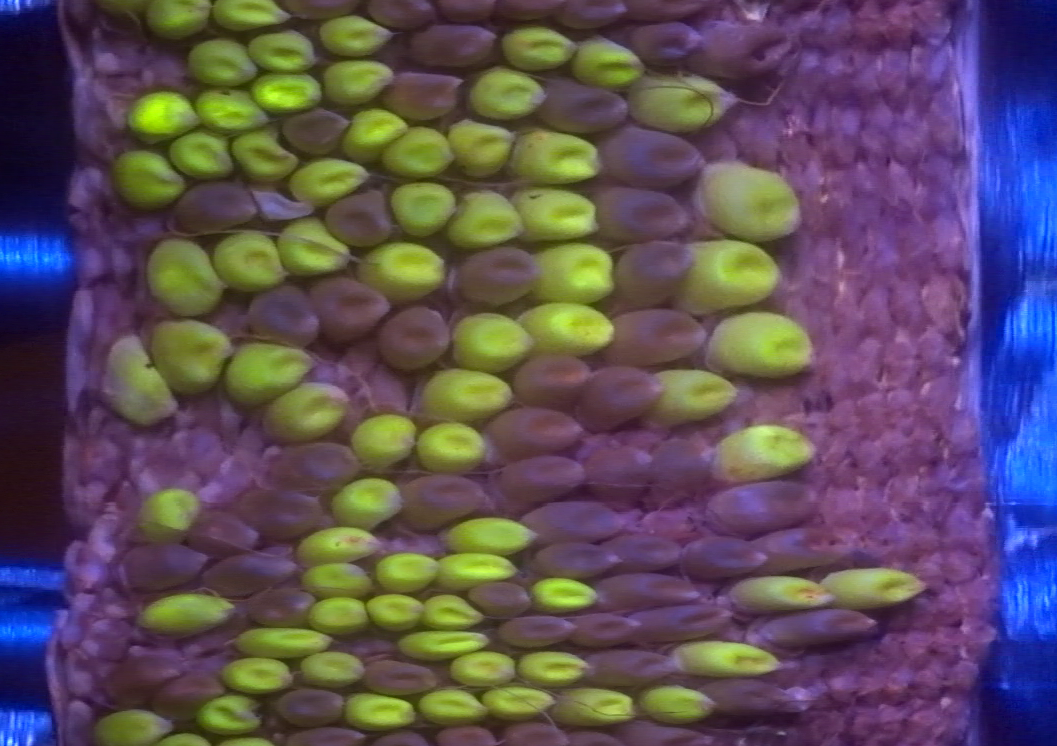fluorescent: (699, 163, 798, 239), (691, 243, 784, 304), (146, 239, 222, 313), (716, 426, 817, 481), (151, 319, 225, 394), (707, 321, 806, 375), (109, 336, 171, 420), (355, 243, 446, 300), (229, 336, 311, 398), (628, 77, 734, 123), (822, 565, 924, 611), (528, 247, 614, 301), (516, 304, 611, 351), (426, 370, 513, 421), (266, 384, 345, 440), (276, 218, 350, 276), (456, 310, 528, 369), (512, 132, 600, 180), (514, 188, 596, 239), (654, 368, 734, 419), (212, 234, 283, 291), (734, 572, 827, 613), (677, 640, 779, 675), (449, 118, 508, 178), (341, 104, 403, 161), (455, 187, 518, 243), (576, 31, 639, 86), (113, 154, 180, 204), (469, 71, 536, 120), (137, 487, 199, 539), (332, 479, 399, 527), (143, 596, 227, 634), (418, 423, 484, 471), (284, 164, 363, 204), (385, 128, 452, 175), (389, 183, 453, 232), (350, 418, 413, 465), (235, 133, 294, 183), (172, 133, 231, 181), (447, 516, 535, 548), (437, 550, 516, 585), (294, 530, 375, 564), (186, 40, 250, 83), (503, 28, 573, 67), (520, 648, 589, 686), (127, 96, 192, 136), (219, 657, 293, 692), (196, 90, 263, 127), (319, 63, 389, 98), (248, 33, 314, 70), (142, 1, 210, 36), (645, 685, 714, 719), (237, 629, 329, 654), (557, 691, 636, 720), (254, 78, 320, 111), (325, 17, 389, 51), (306, 560, 370, 594), (537, 572, 596, 608), (454, 652, 516, 686), (367, 595, 424, 630), (482, 689, 550, 718), (424, 688, 482, 722), (94, 715, 164, 743), (421, 596, 483, 626), (301, 657, 369, 684), (306, 600, 367, 630), (399, 635, 495, 654), (380, 554, 431, 589), (346, 700, 417, 724), (214, 2, 288, 25), (201, 701, 259, 729)
nonfluorescent: (699, 476, 819, 537), (162, 177, 262, 243), (577, 363, 668, 434), (606, 124, 705, 186), (612, 303, 711, 363), (702, 18, 792, 83), (539, 76, 633, 138), (593, 184, 693, 242), (313, 276, 393, 348), (459, 243, 545, 307), (242, 279, 317, 350), (762, 603, 879, 648), (615, 236, 692, 304), (97, 639, 178, 703), (519, 498, 631, 543), (381, 296, 449, 369), (395, 471, 486, 523), (588, 443, 659, 509), (493, 404, 583, 456), (492, 448, 585, 498), (754, 527, 855, 572), (404, 22, 499, 69), (328, 190, 399, 252), (517, 350, 589, 410), (634, 600, 736, 642), (115, 538, 206, 585), (244, 483, 324, 536), (386, 72, 472, 121), (679, 534, 769, 578), (274, 438, 357, 485), (592, 570, 704, 604), (529, 539, 624, 579), (205, 548, 297, 589), (282, 104, 356, 154), (704, 676, 796, 716), (356, 650, 438, 694), (628, 20, 702, 68), (465, 572, 533, 623), (650, 436, 705, 499), (582, 646, 672, 684), (604, 531, 687, 572), (494, 611, 580, 650), (156, 670, 223, 720), (189, 506, 259, 551), (242, 582, 312, 622), (273, 686, 345, 724), (572, 610, 640, 647), (620, 718, 701, 746), (560, 1, 633, 31), (373, 1, 435, 31), (500, 717, 564, 746), (434, 720, 495, 746)
